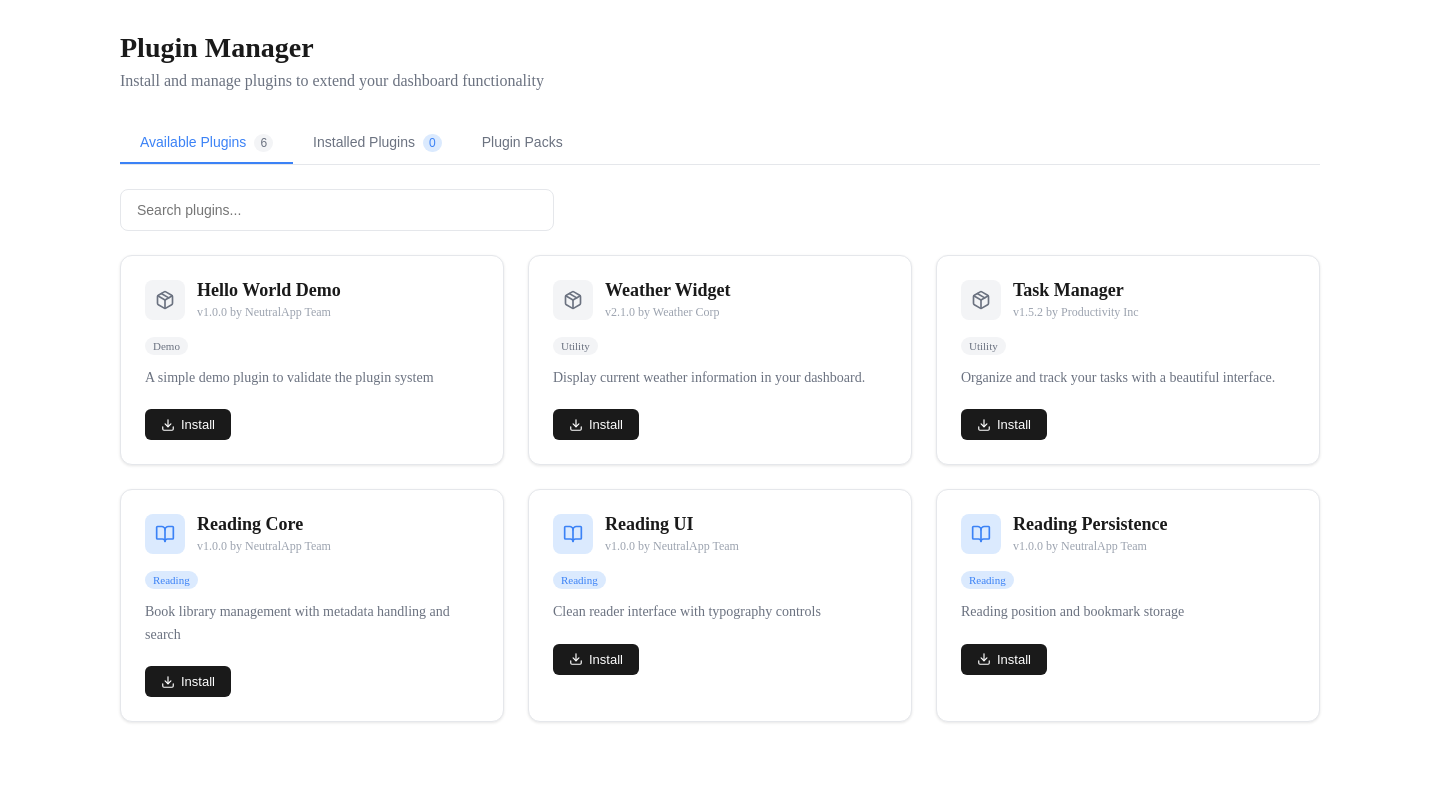
Test case: Plugin Manager Core Tests › should allow plugin installation and show toast notification
Check: the heading "Hello World Demo" is shown, box [197,280,341,301]
Click the button "Install" below "Hello World Demo": (188, 425) [145,409,231,440]
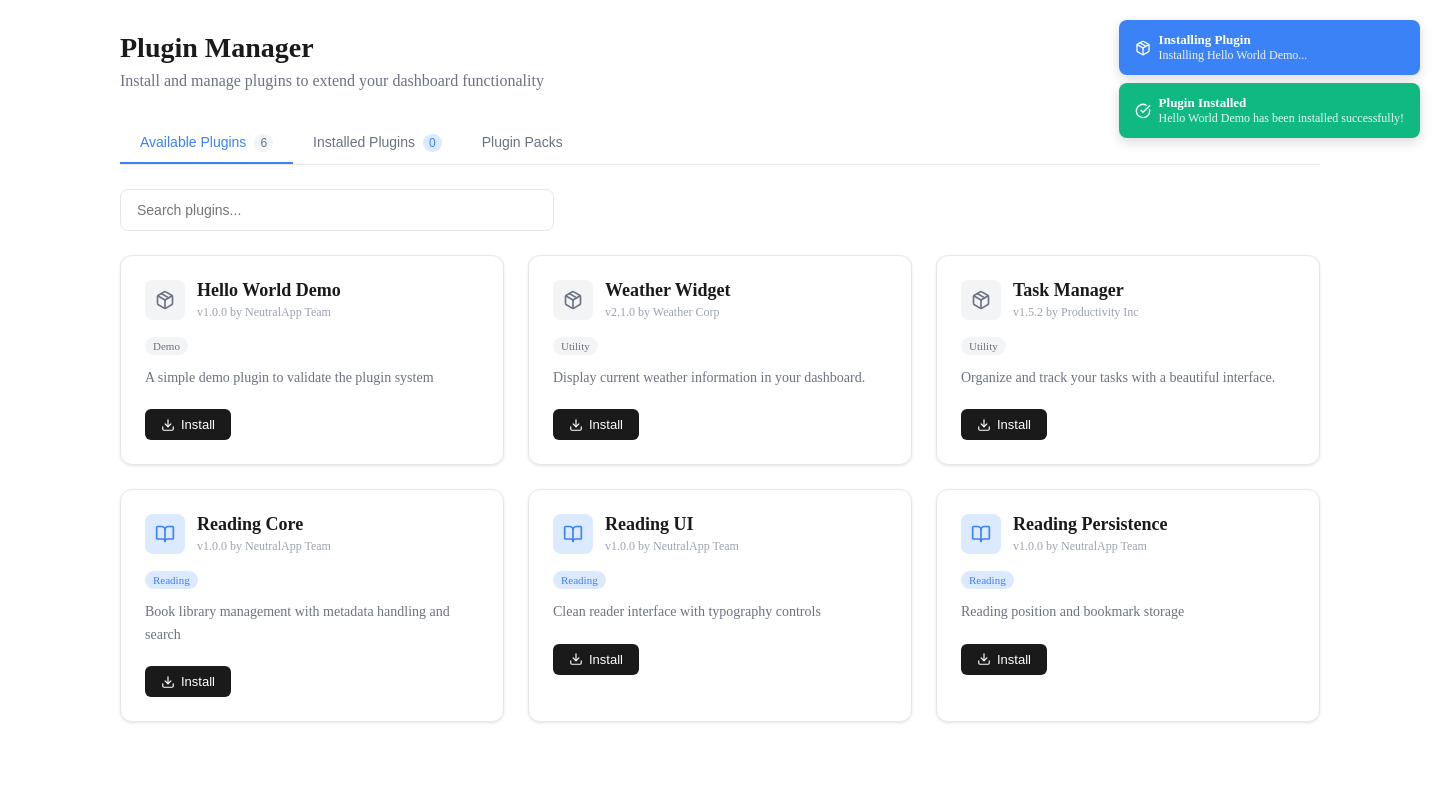
Check: the text "Installing Plugin" is shown, box [1159,32,1251,47]
